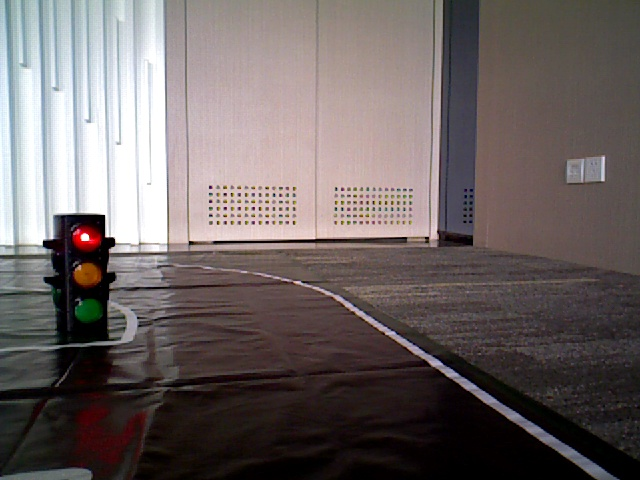red: (58, 224, 104, 333)
